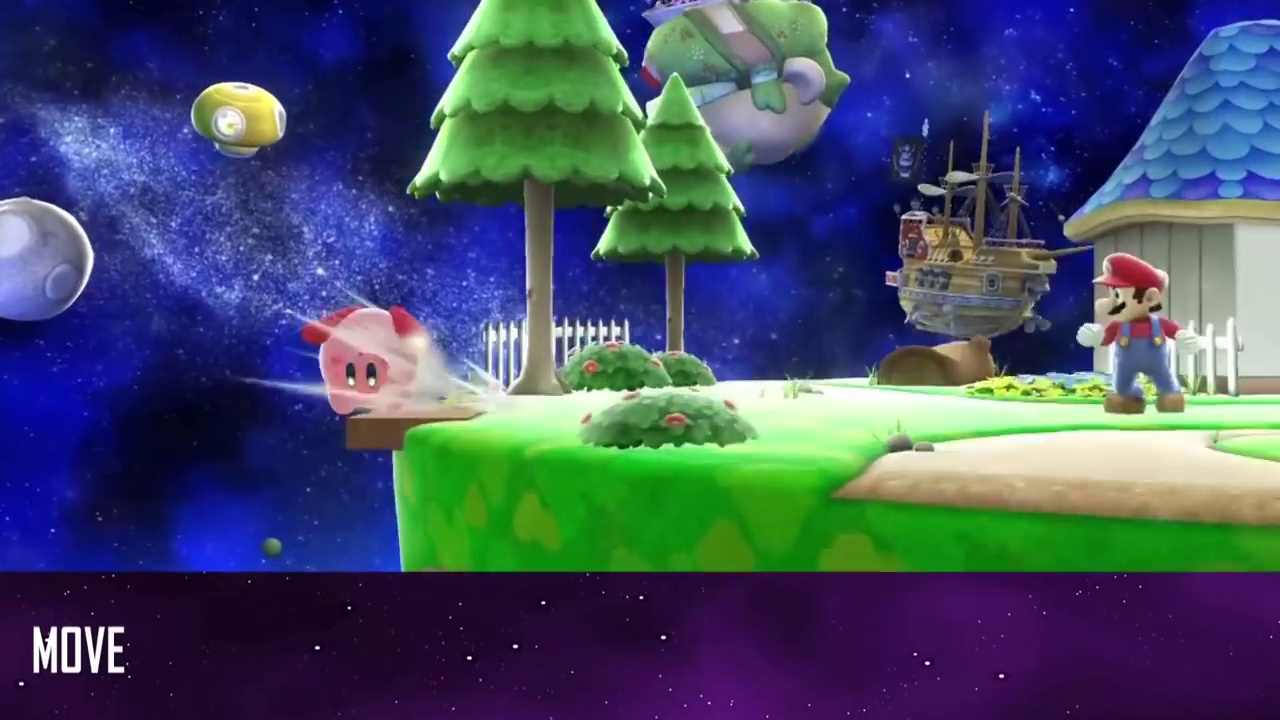Mario: (1074, 253, 1196, 412)
